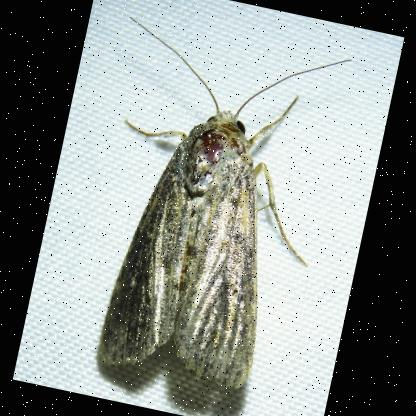Fall Armyworm Moth: (50, 7, 354, 408)
